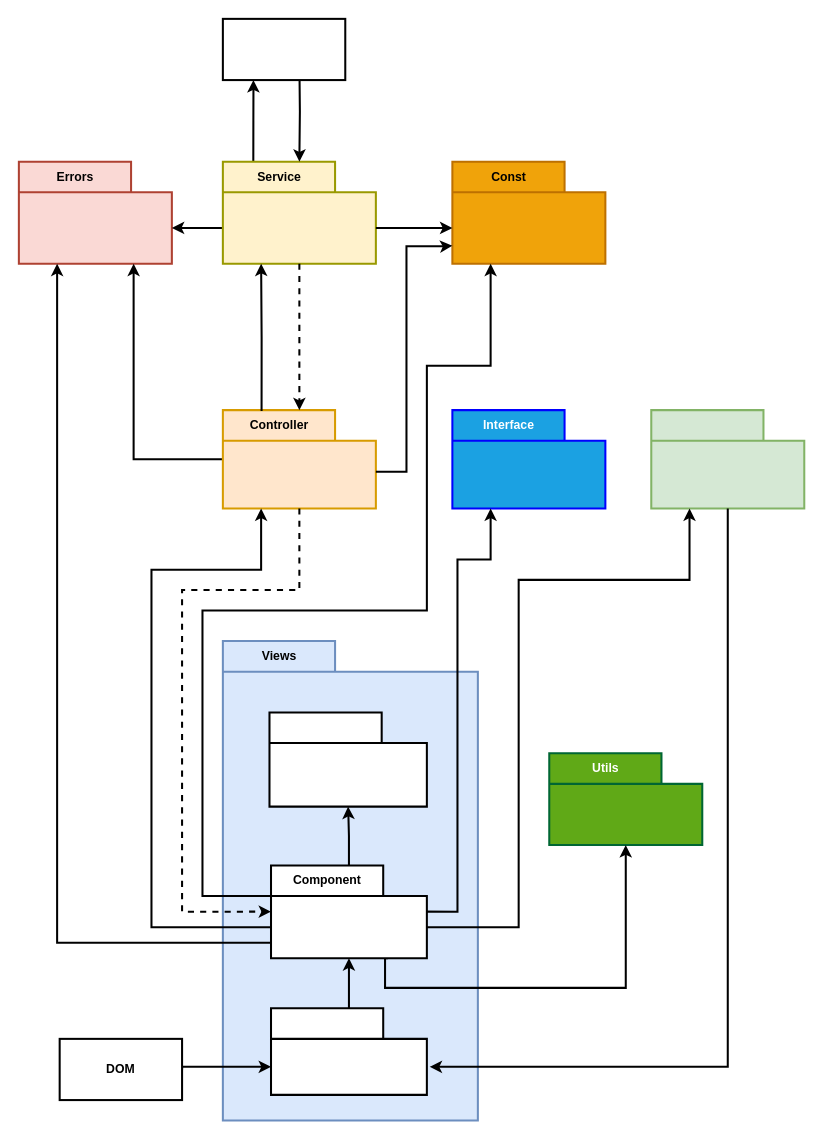
Image size: 822x1138. Some labels were removed from this diagram. Here are the shapes that lost their labels. From the top down, the centre of each, then its label:
At point 283,49: "Backend".
At point 727,459: "Router".
At point 347,759: "UI".
At point 348,1051: "Pages".
